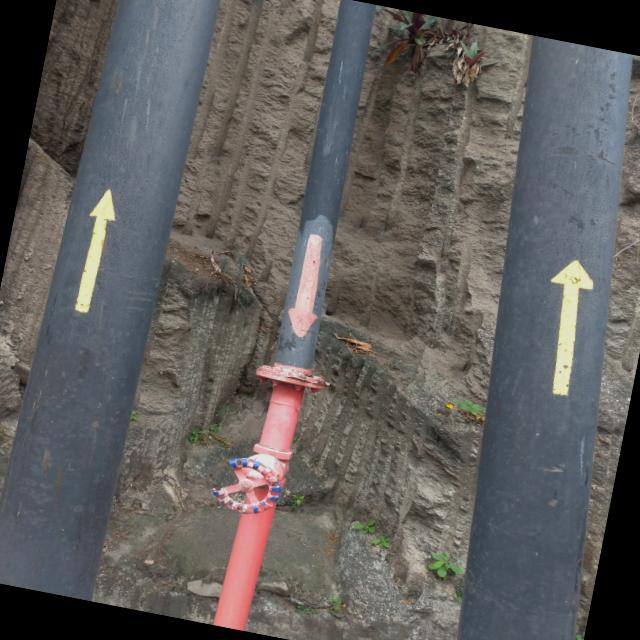gas: (410, 35, 640, 640), (0, 0, 225, 601), (208, 0, 385, 635)
